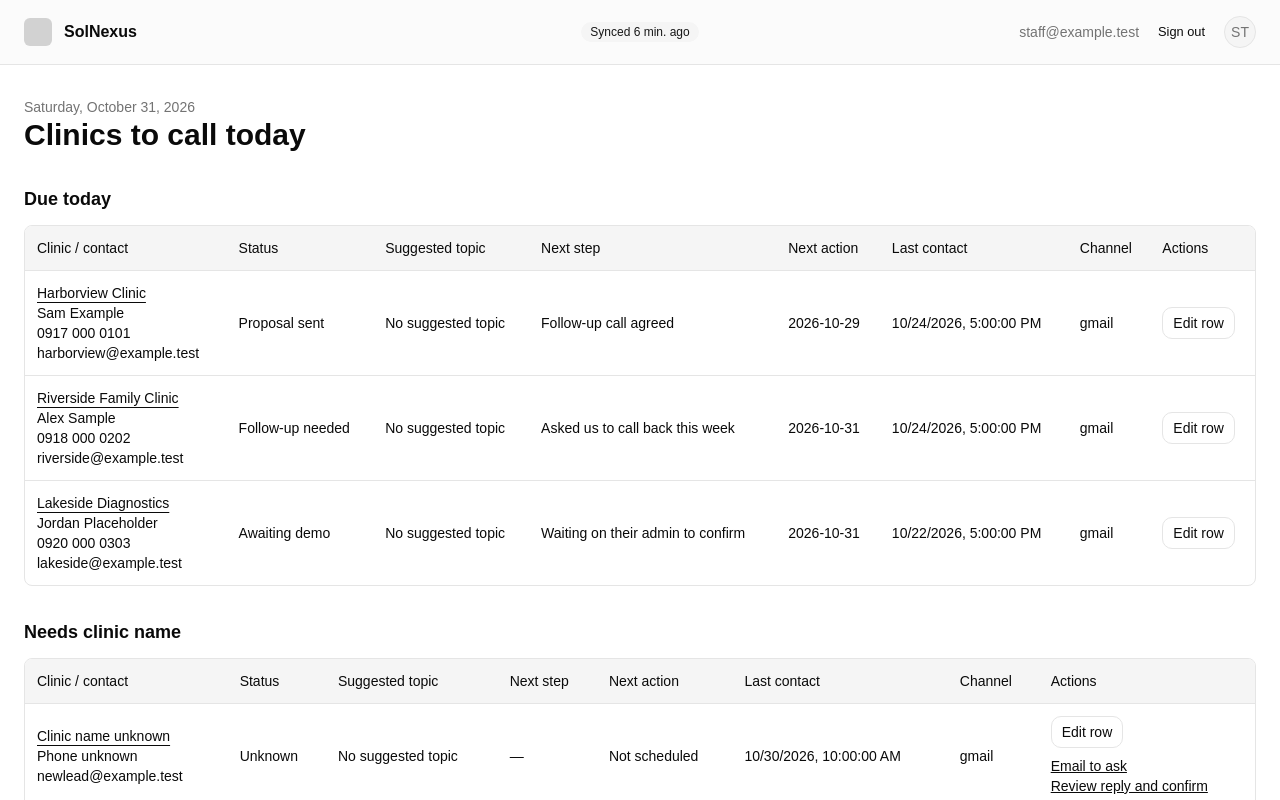
staff session › ends the session on the API when staff sign out
Click the button "Sign out" at (1182, 32), box [1147,18,1216,46]
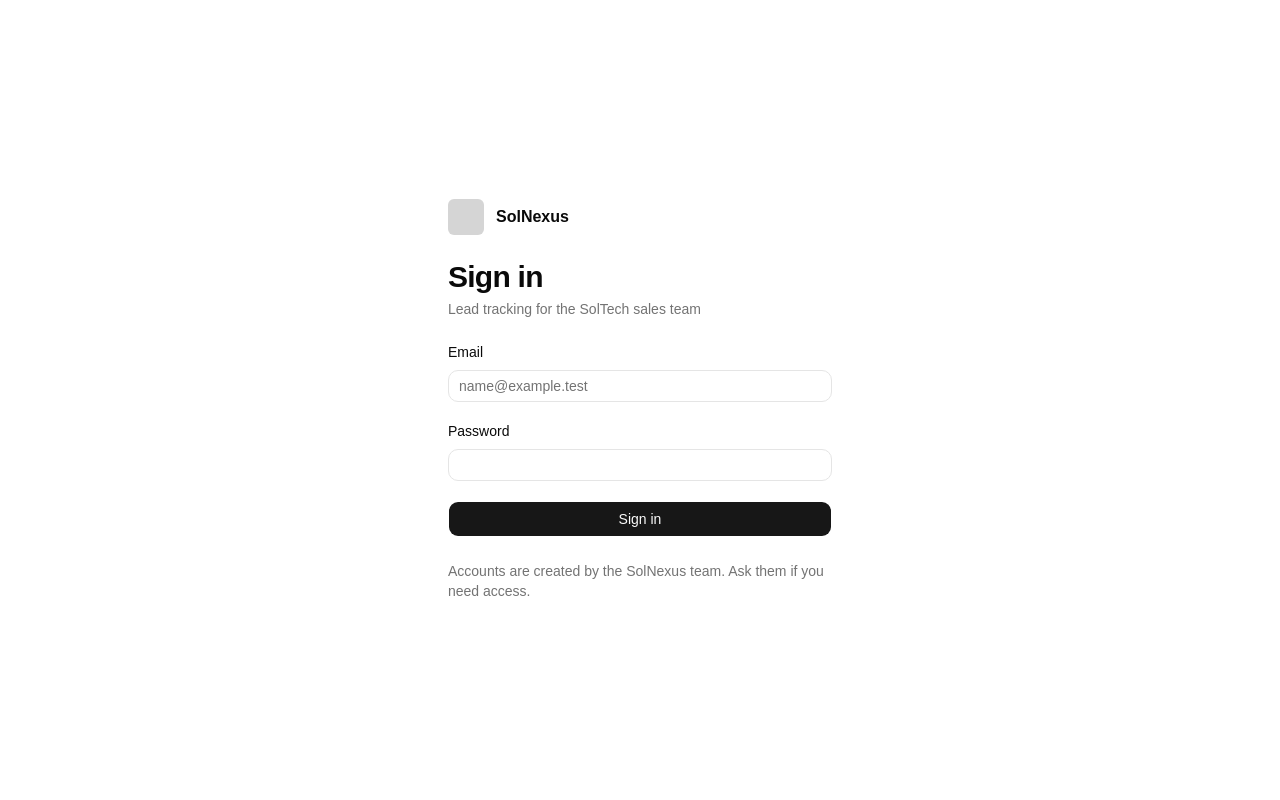
Expected: the heading "Sign in" is shown, [448,260,543,293]
